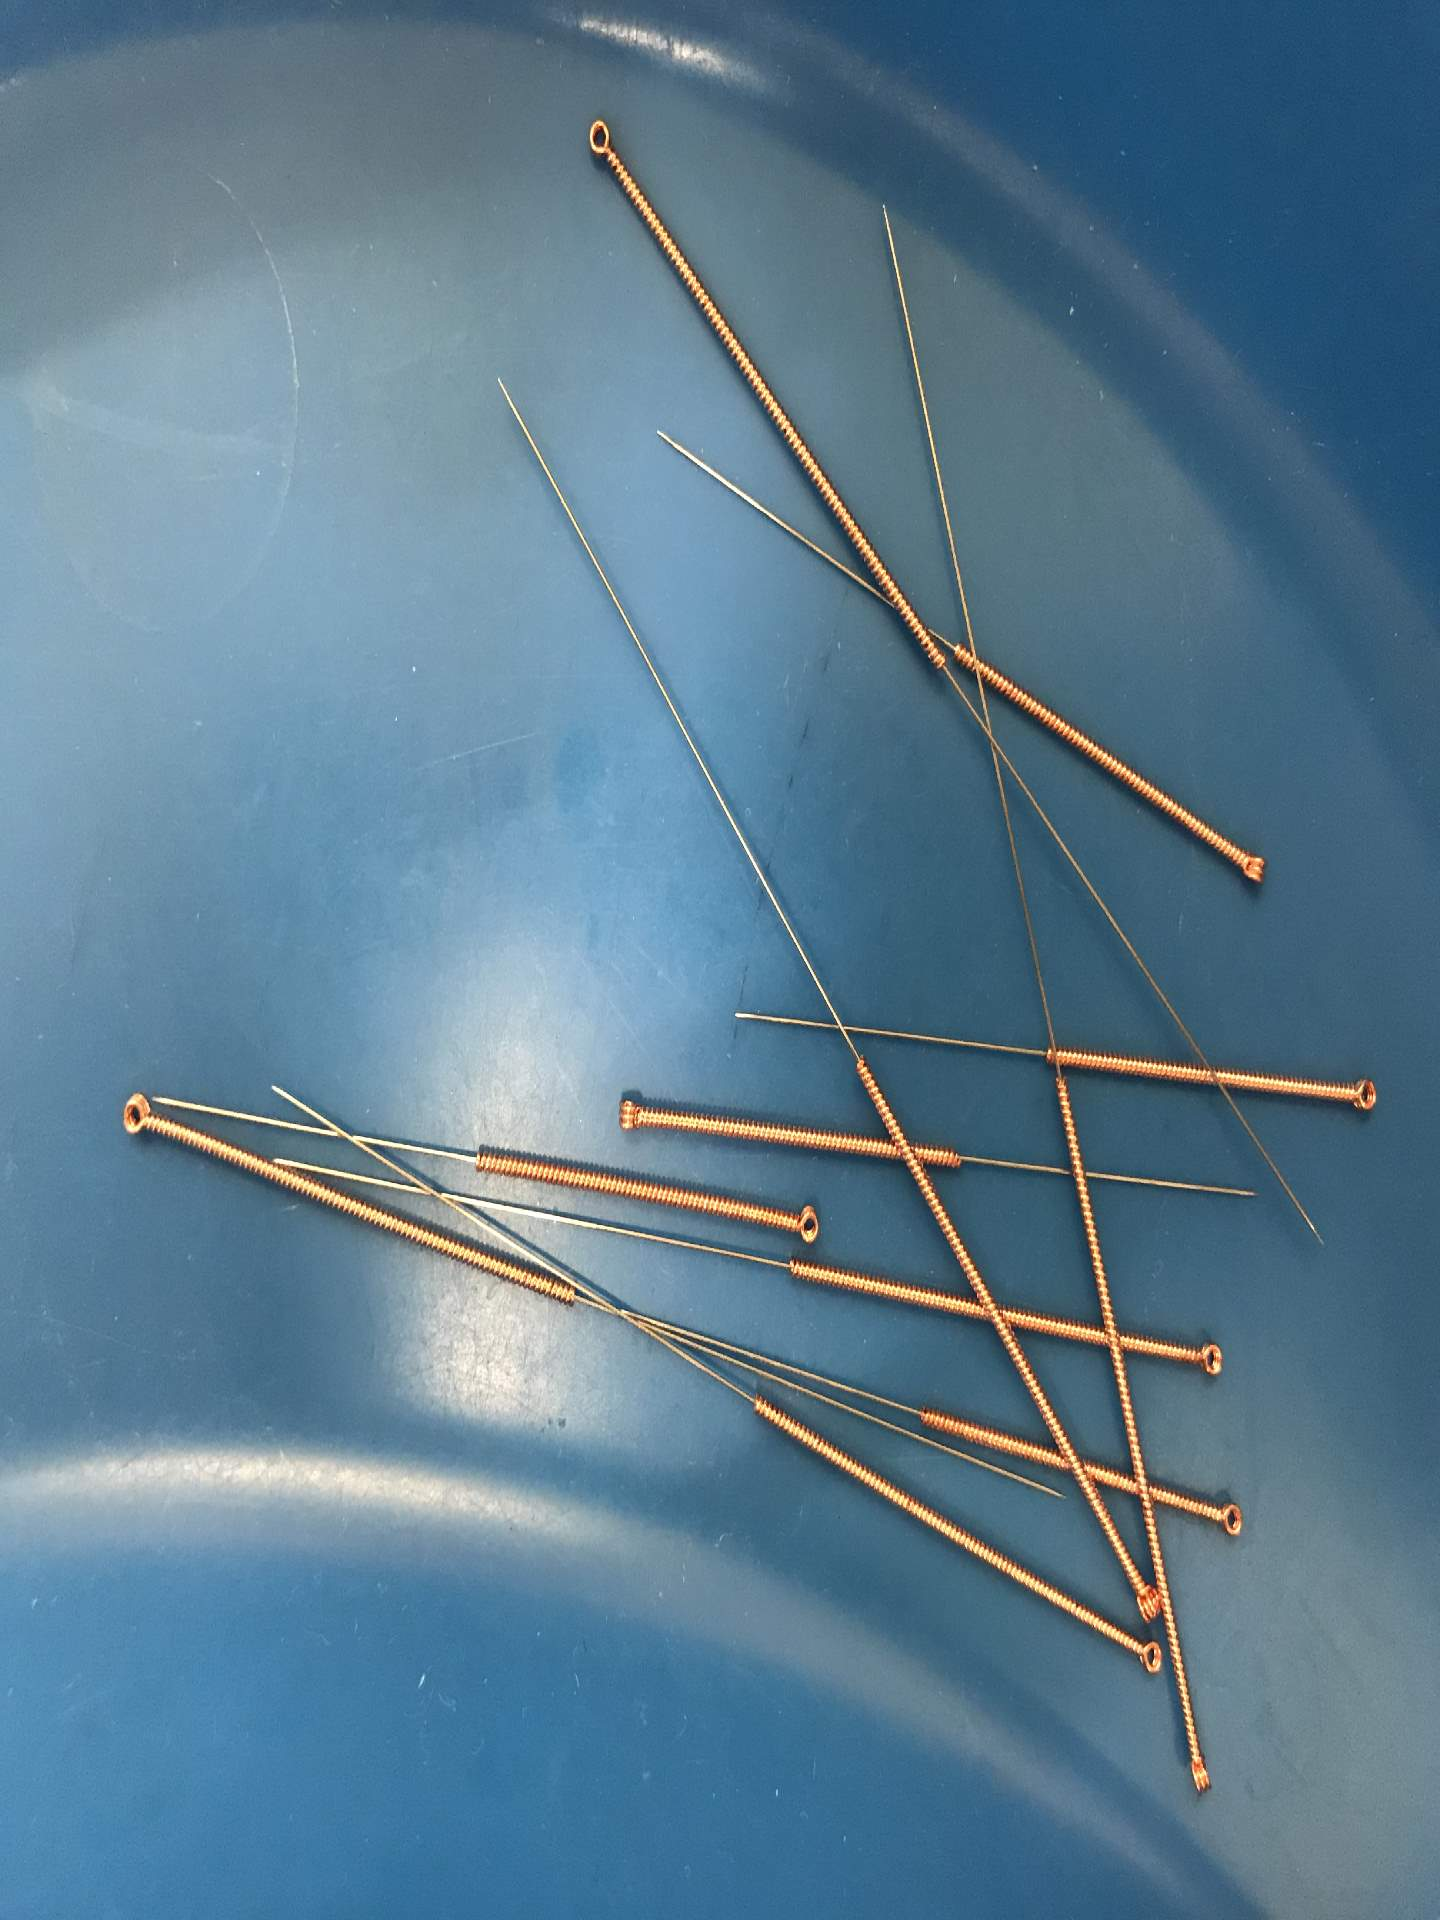needle: (570, 103, 628, 180), (107, 1085, 171, 1154), (1328, 1063, 1389, 1128), (1224, 838, 1280, 898), (1175, 1736, 1222, 1804), (1180, 1327, 1231, 1389), (604, 1085, 658, 1143), (777, 1194, 830, 1250), (1203, 1489, 1252, 1547), (1121, 1625, 1166, 1684), (1127, 1569, 1165, 1633)
